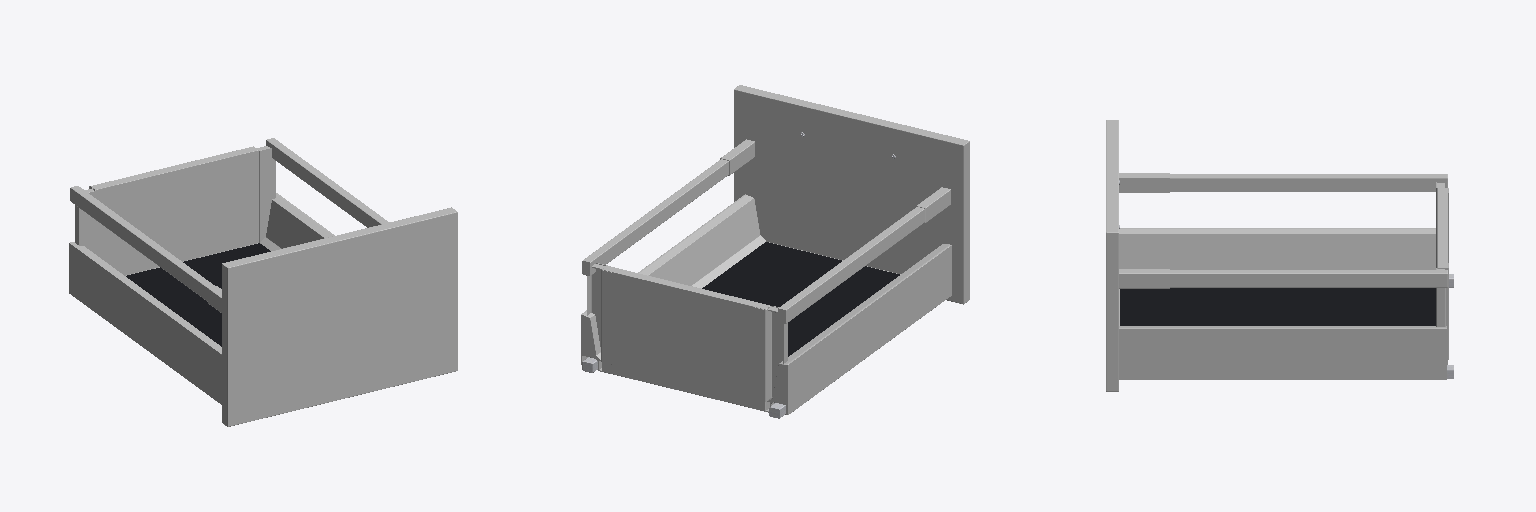
3 views of the same model, side by side, from view 1: azimuth 30°, elevation 25°; view 2: azimuth 150°, elevation 25°; view 3: azimuth 270°, elevation 25° (orthographic).
Parts seen in each view (by area): view 1: SM_Kitchen_06_Base_Drawer_02_50; view 2: SM_Kitchen_06_Base_Drawer_02_50; view 3: SM_Kitchen_06_Base_Drawer_02_50.
Boxes of the visible parts, x1,y1,x2,y2 form: SM_Kitchen_06_Base_Drawer_02_50: [69, 138, 457, 426]; SM_Kitchen_06_Base_Drawer_02_50: [581, 85, 969, 418]; SM_Kitchen_06_Base_Drawer_02_50: [1106, 120, 1453, 391].
Bounding box in the file's own units: 39.8 × 26.3 × 51.99.
Materials: 4 (2 with a texture image).